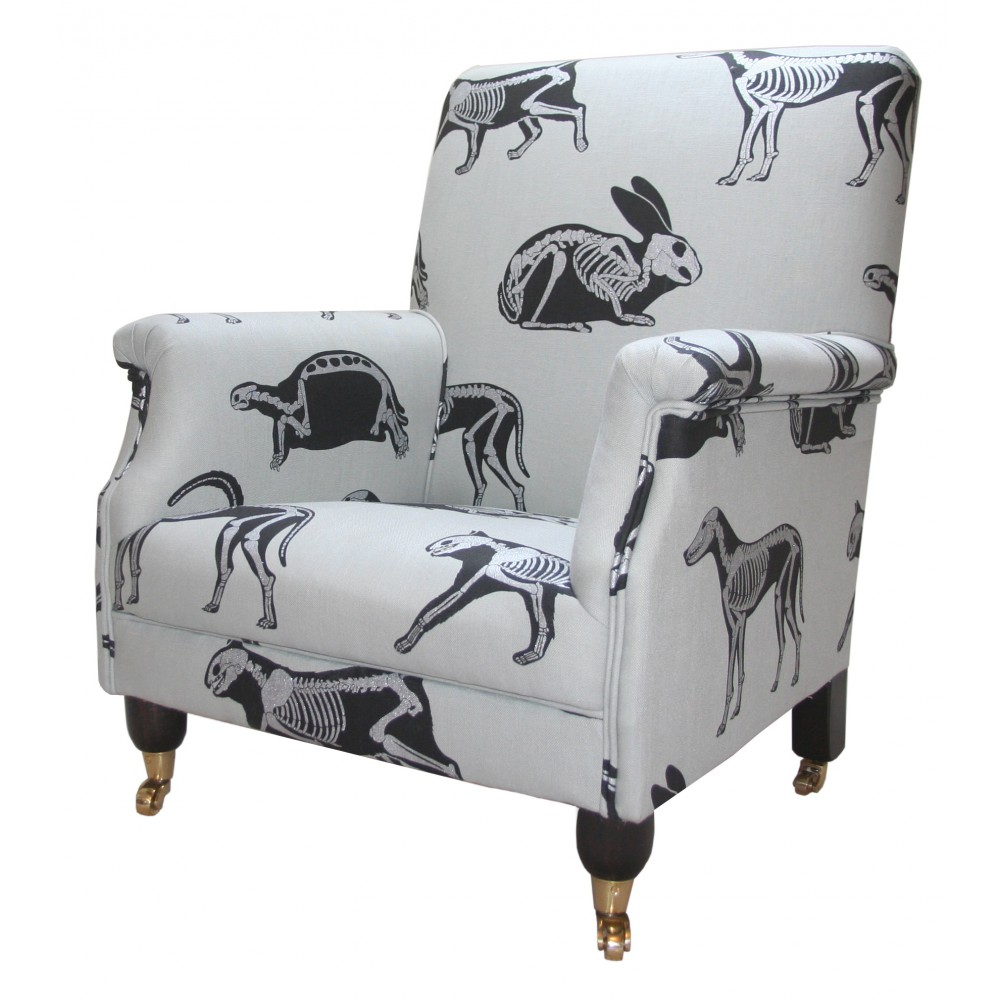chairs: (91, 50, 923, 953)
